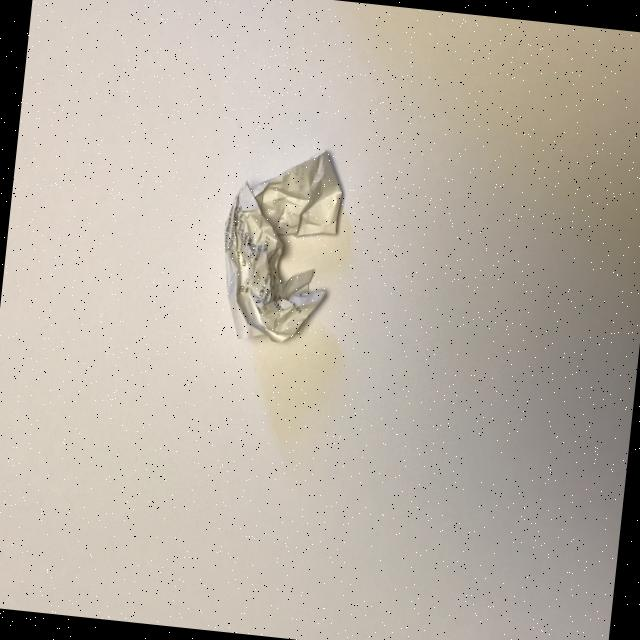paper: (212, 140, 347, 348)
